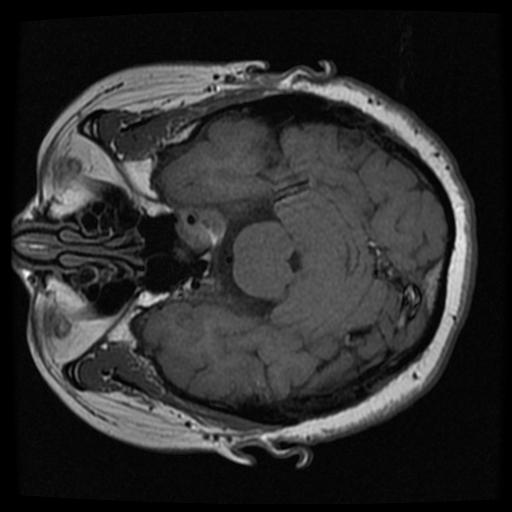pituitary tumour: (176, 201, 223, 252)
